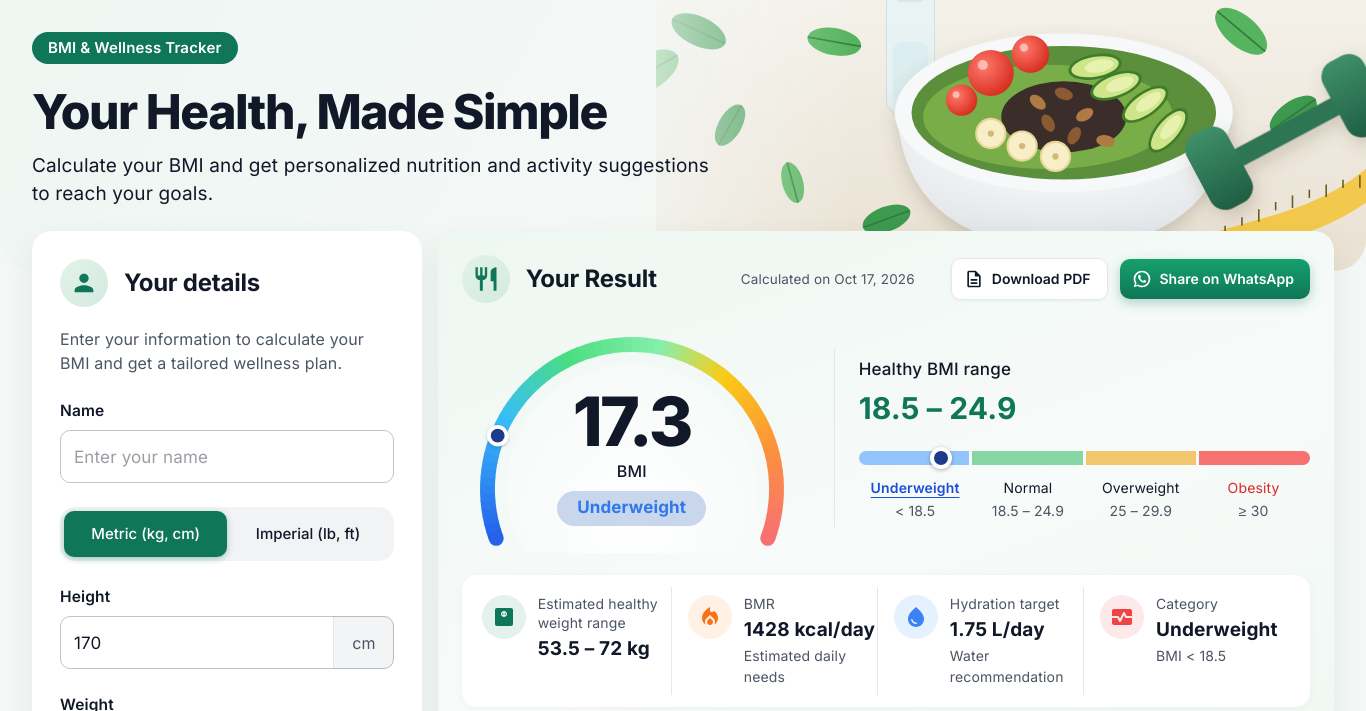
Test: BmiApp › shows validation errors for invalid input
Clear the field named "Height in centimeters" at (193, 643), box [60, 616, 325, 669]
(page scrolled)
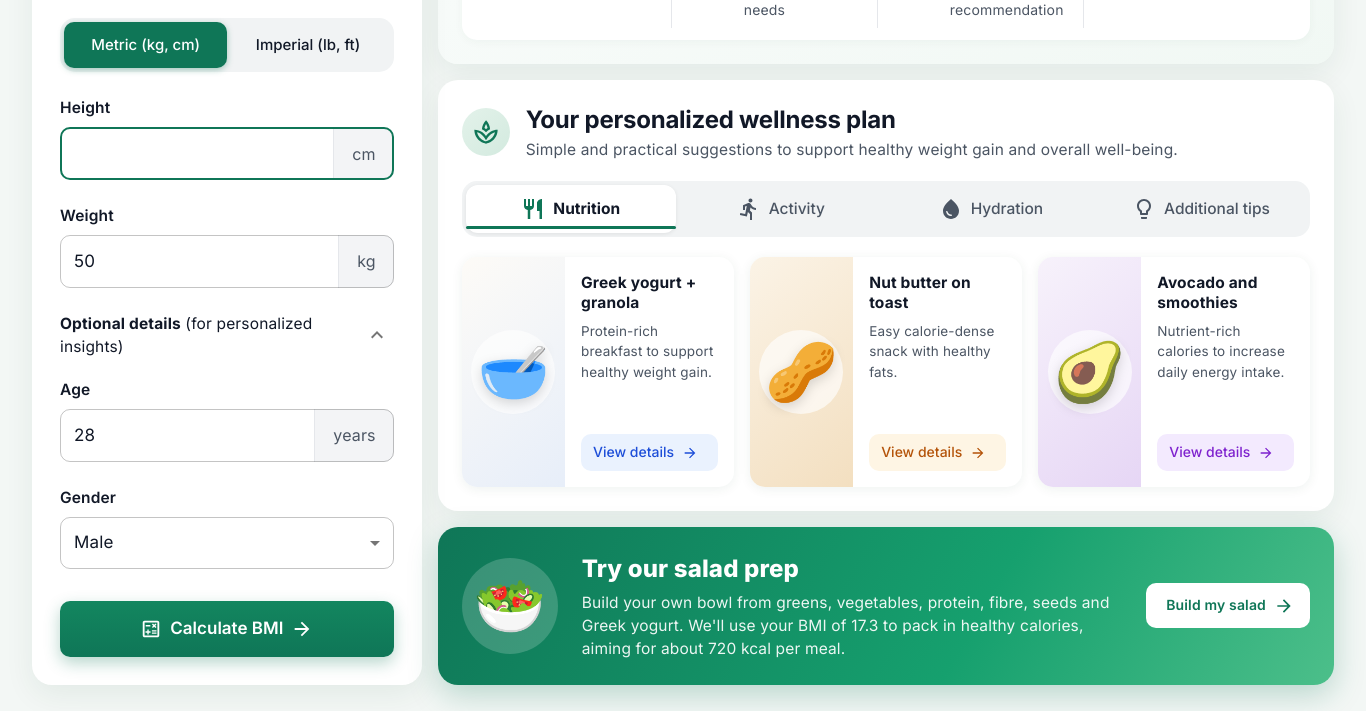
Click the button "Calculate BMI" at (227, 629), box [60, 601, 394, 656]
(page scrolled)
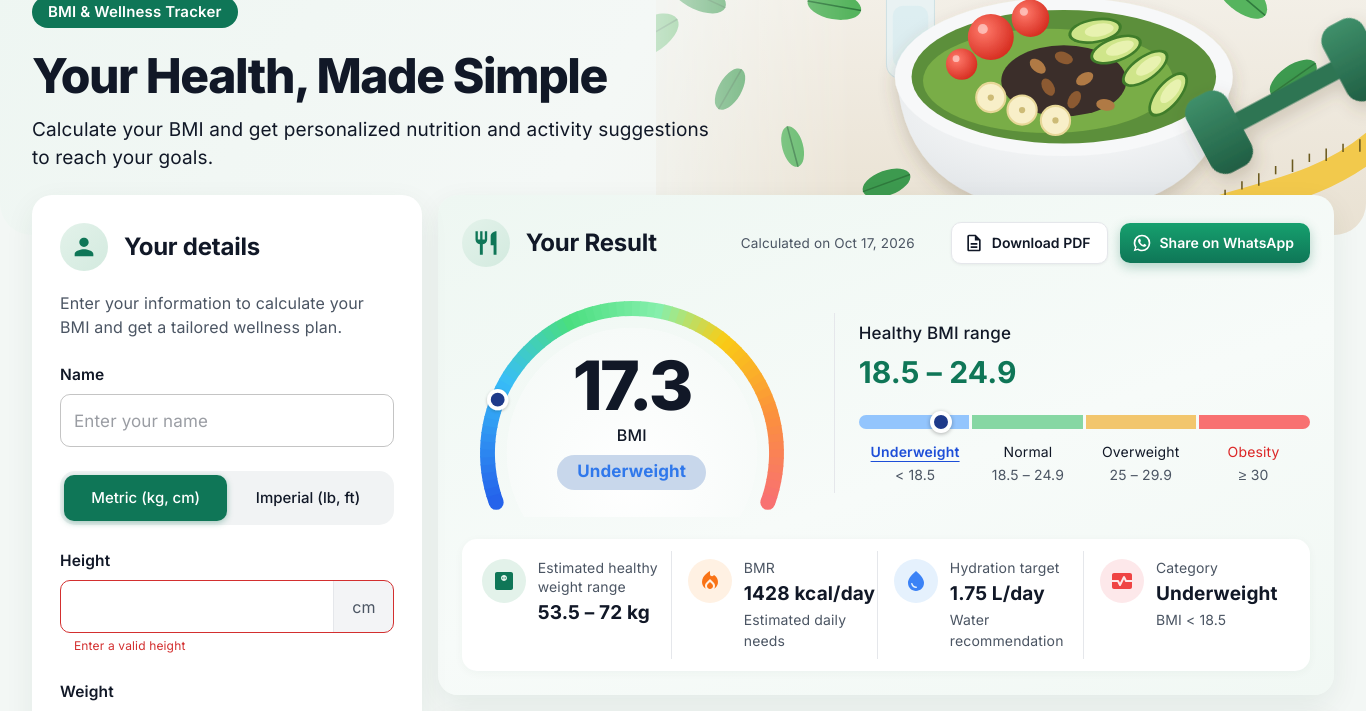
Expected: the text with test id "bmi-value" reads "17.3", [573, 344, 691, 426]
Now the text "Enter a valid height" is shown, box [74, 638, 186, 653]
